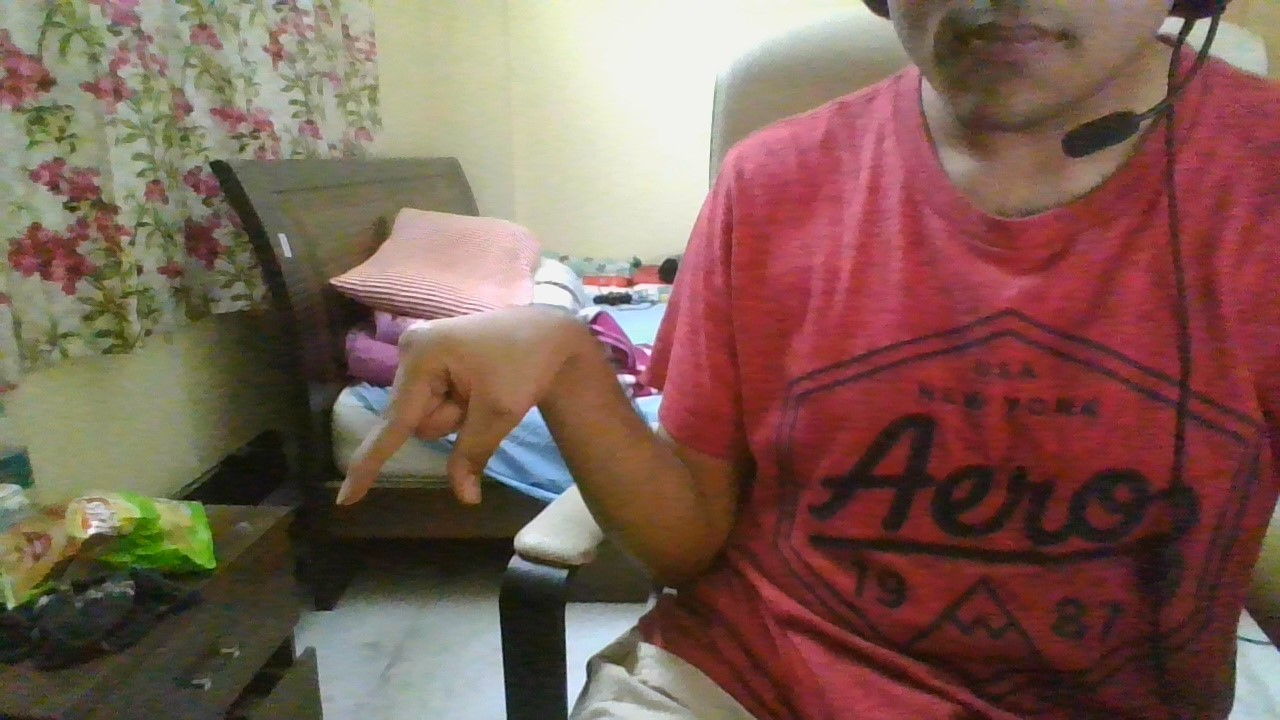q: (333, 301, 585, 511)
